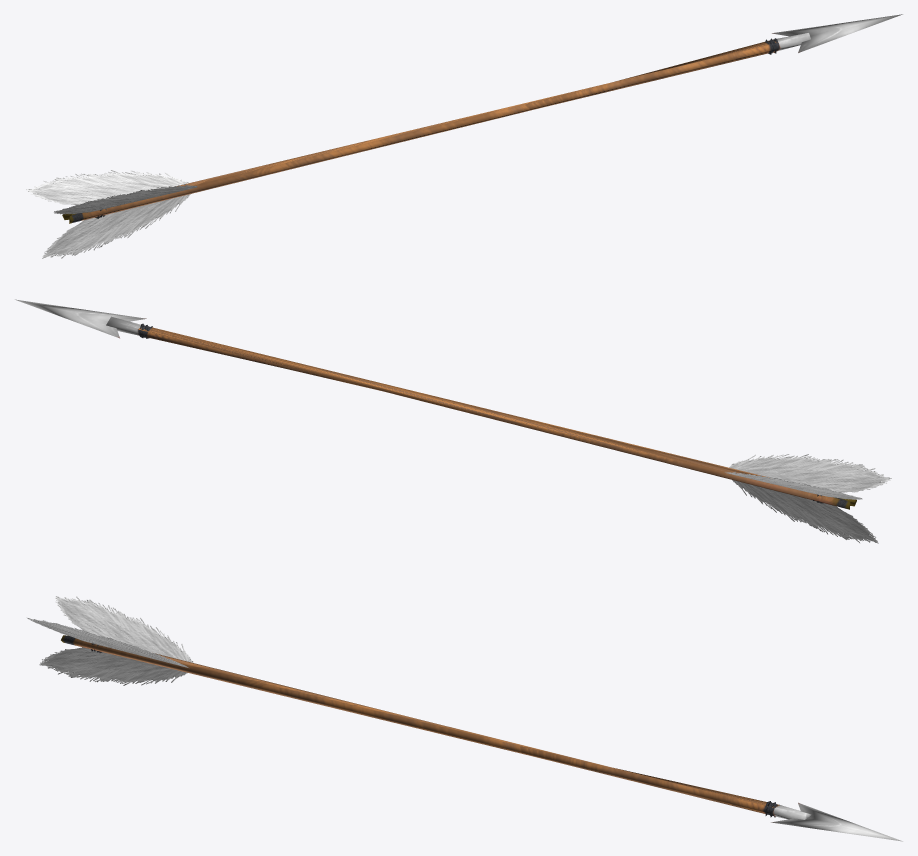
The picture shows the model from 3 angles, top to bottom: view 1: azimuth 30°, elevation 25°; view 2: azimuth 150°, elevation 25°; view 3: azimuth 330°, elevation 25°; orthographic projection.
Visible parts, largest first — view 1: arrow obj; view 2: arrow obj; view 3: arrow obj.
Boxes of the visible parts, x1,y1,x2,y2 form: arrow obj: (26,14,902,258); arrow obj: (15,299,891,543); arrow obj: (27,596,902,841).
Bounding box in the file's own units: 582 × 47.7 × 45.
2 materials, 2 textured.
